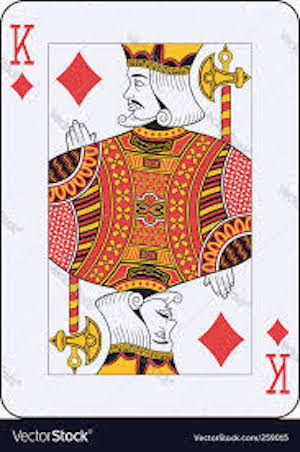KingOfDiamonds: (1, 6, 300, 423)
